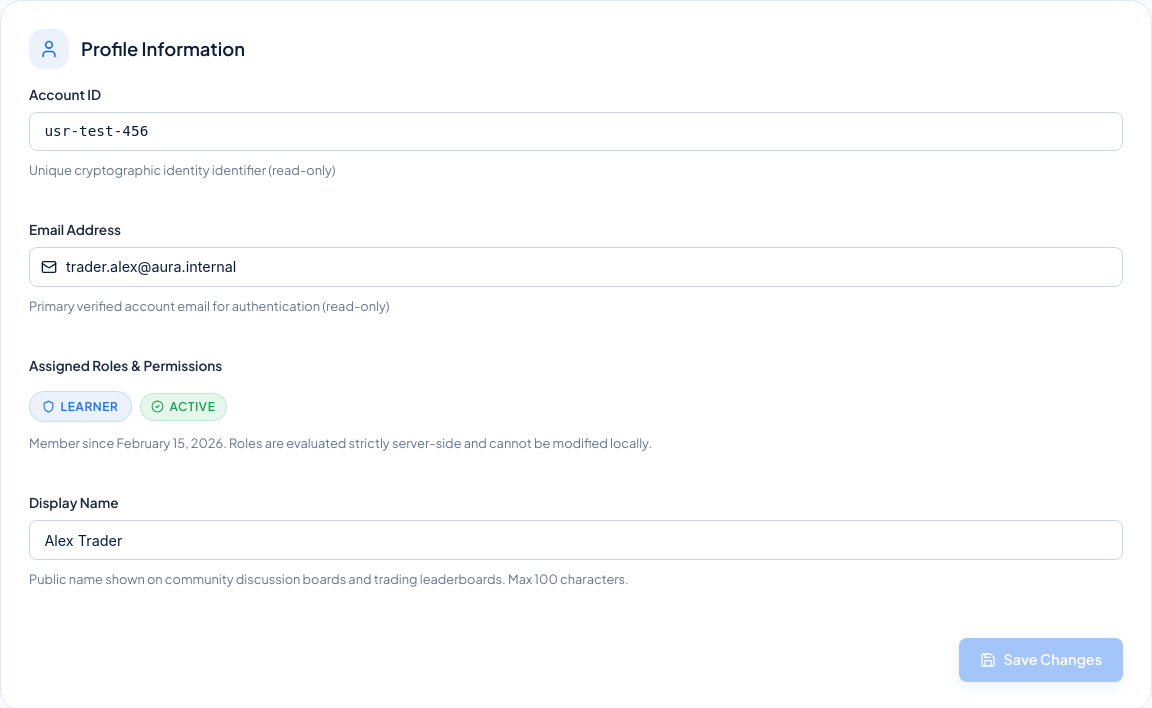
it: ProfileDetailsForm (FEAT-078) › submits updated display name and displays success alert
The image size is (1152, 708).
Replace the text in the field labelled "Display Name" with "Alex Rivera Pro". click: coordinates (576, 540)
box: x1=29 y1=520 x2=1123 y2=560
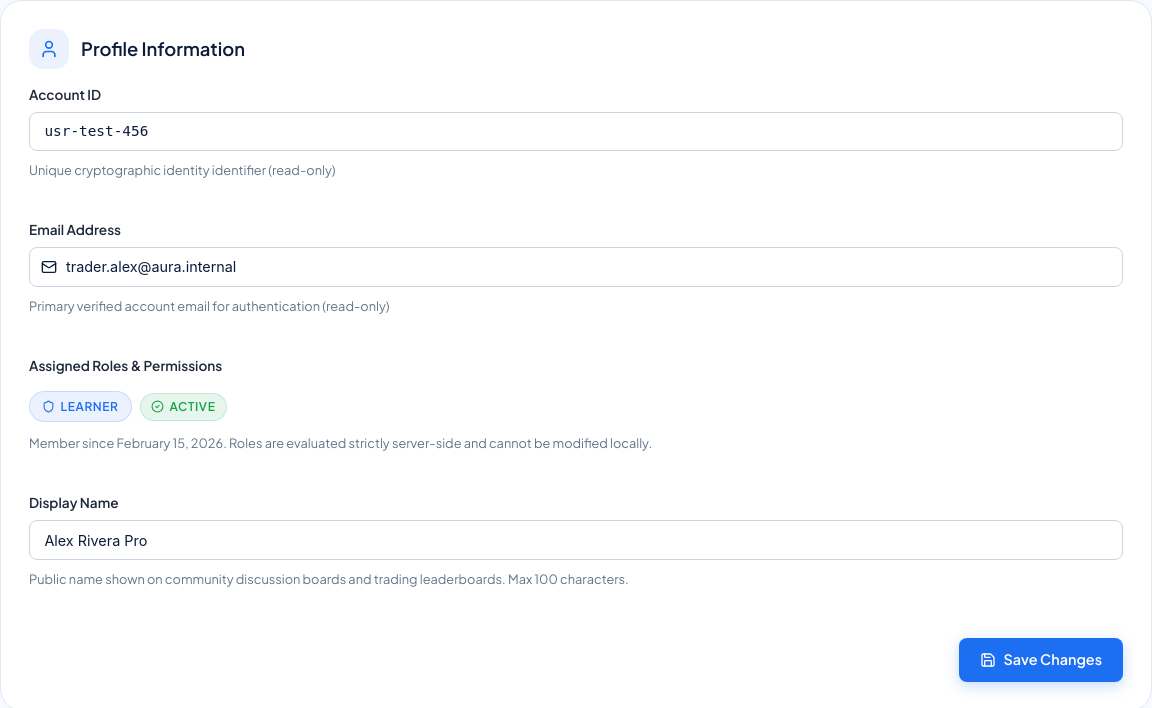
Result: the button with aria-label "save profile details" is enabled
Click the button with aria-label "save profile details". click: coordinates (1041, 660)
box: x1=959 y1=638 x2=1123 y2=682
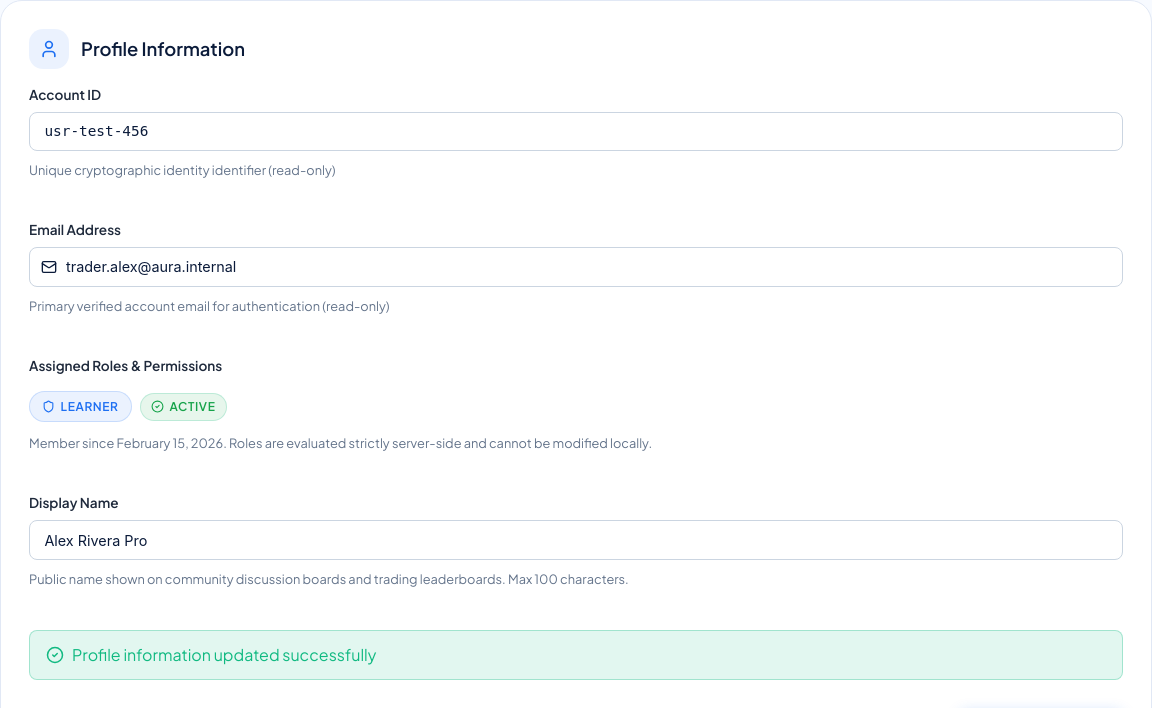
Result: the text "Profile information updated successfully" is shown at x1=72 y1=643 x2=376 y2=667
